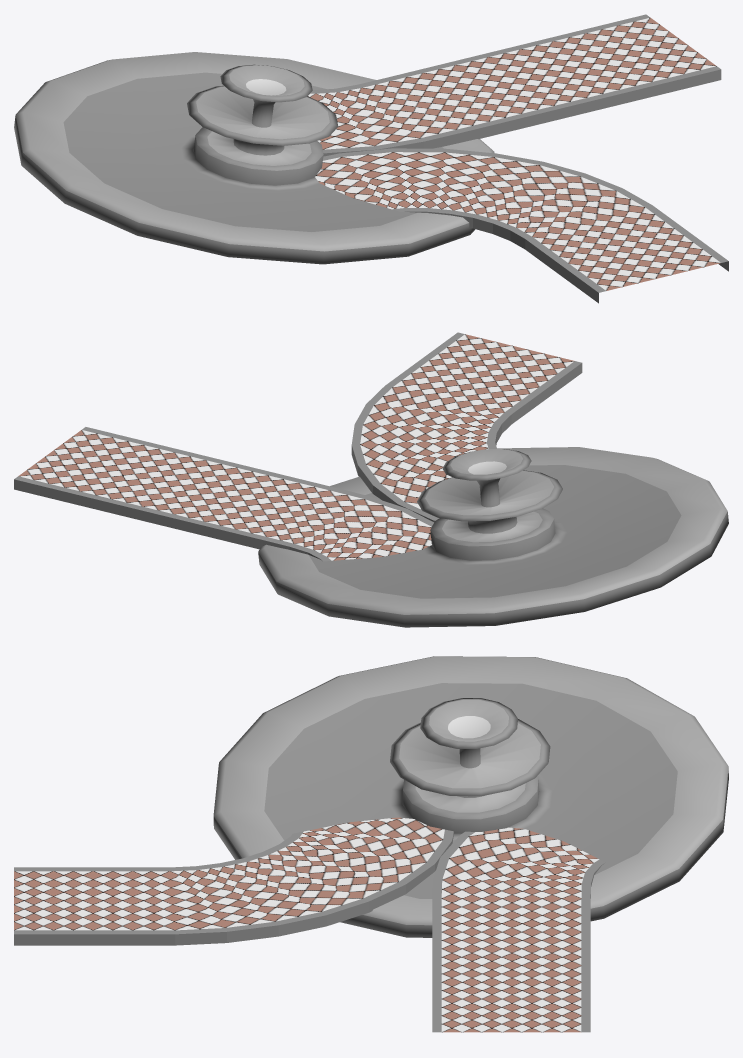
The model's file is hardturnschunk.fbx.
3 views of the same model, one above another, from view 1: azimuth 30°, elevation 25°; view 2: azimuth 150°, elevation 25°; view 3: azimuth 270°, elevation 25° (orthographic). The views are drawn at different scales.
Visible parts, largest first — view 1: Circle, hardturnschunk; view 2: Circle, hardturnschunk; view 3: Circle, hardturnschunk.
Boxes of the visible parts, x1=… form: Circle: x1=14, y1=52, x2=494, y2=264; hardturnschunk: x1=308, y1=14, x2=728, y2=303; Circle: x1=258, y1=447, x2=728, y2=627; hardturnschunk: x1=14, y1=332, x2=582, y2=561; Circle: x1=213, y1=656, x2=728, y2=937; hardturnschunk: x1=14, y1=817, x2=605, y2=1032.
Bounding box in the file's own units: 323 × 289 × 53.77.
